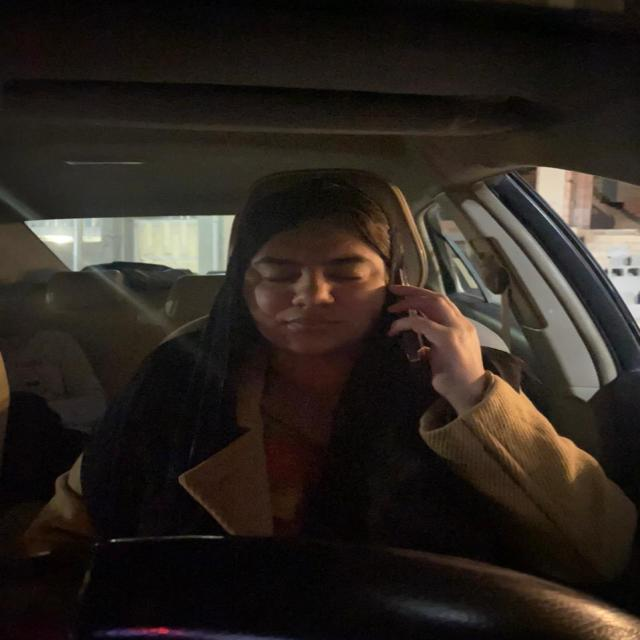mobile: (384, 273, 442, 371)
person: (248, 199, 380, 361)
